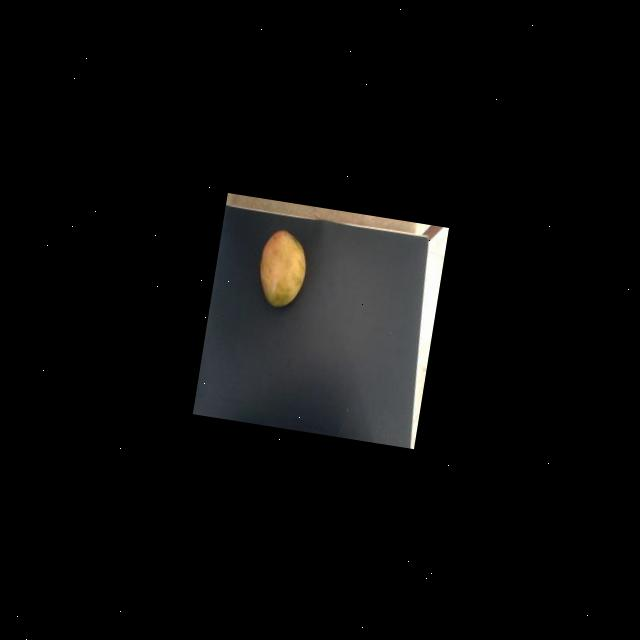Mango: (252, 226, 311, 310)
